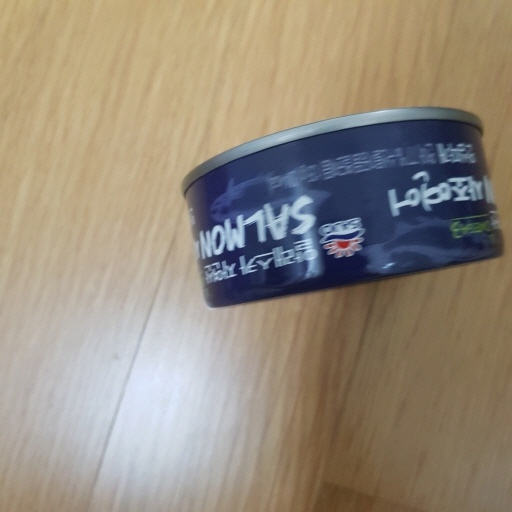Metal_1: (176, 103, 508, 306)
